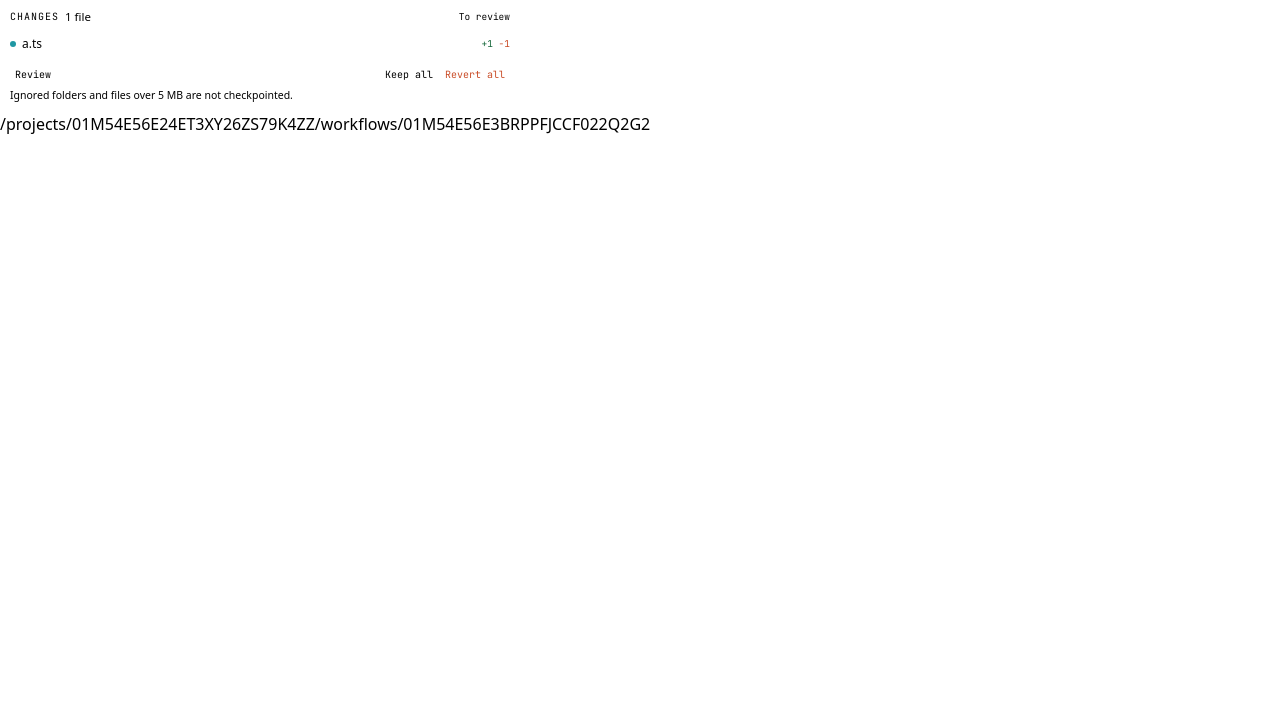
Test: D300 the Changes card under a chat turn › shows a refused revert on its file
Step 1. Click the button "Revert all" → (475, 75), box x1=440 y1=65 x2=510 y2=84
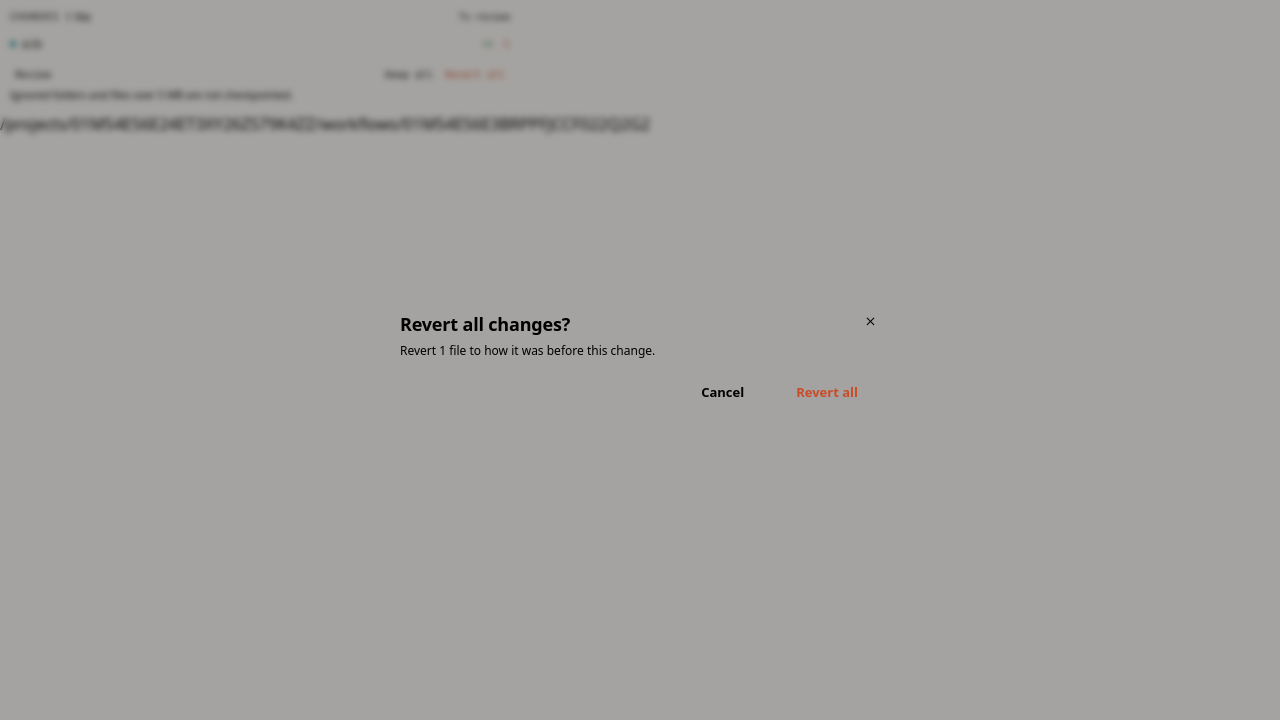
Step 2. Click the button "Revert all" → (827, 392), box x1=774 y1=375 x2=880 y2=409
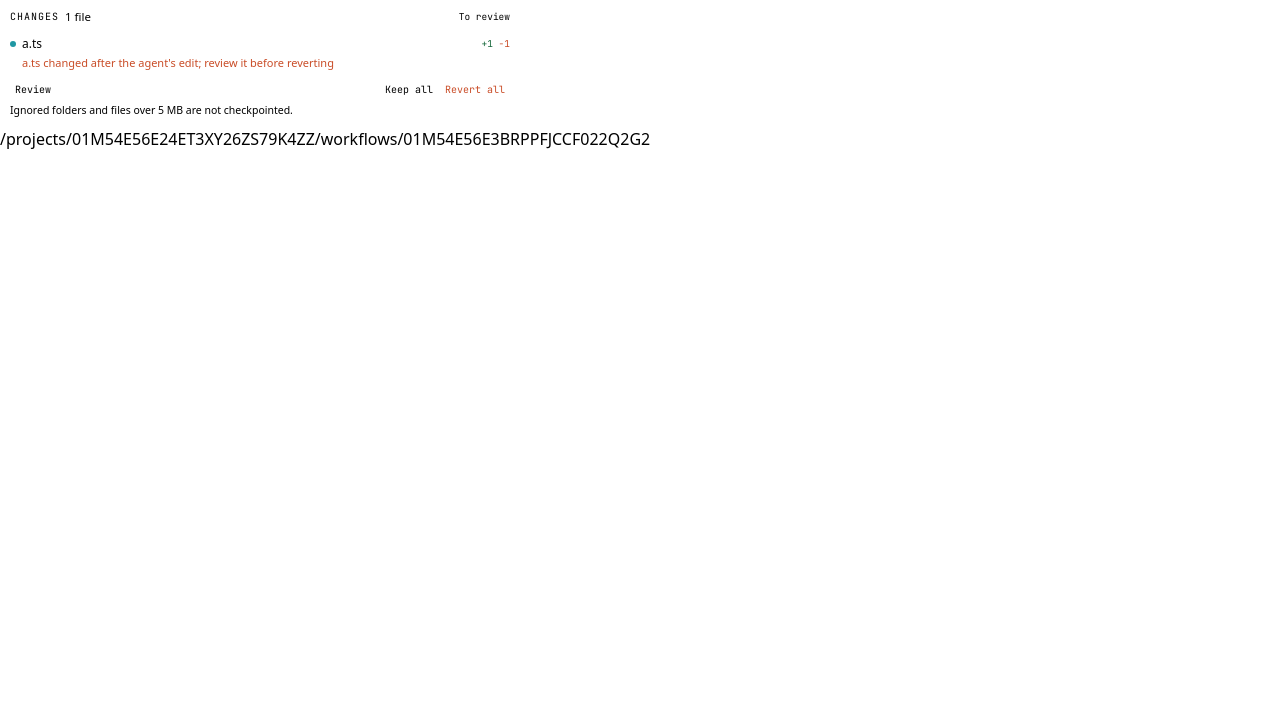
Expected: the message reads "a.ts changed after the agent's edit; review it before reverting", x1=22 y1=55 x2=334 y2=70
